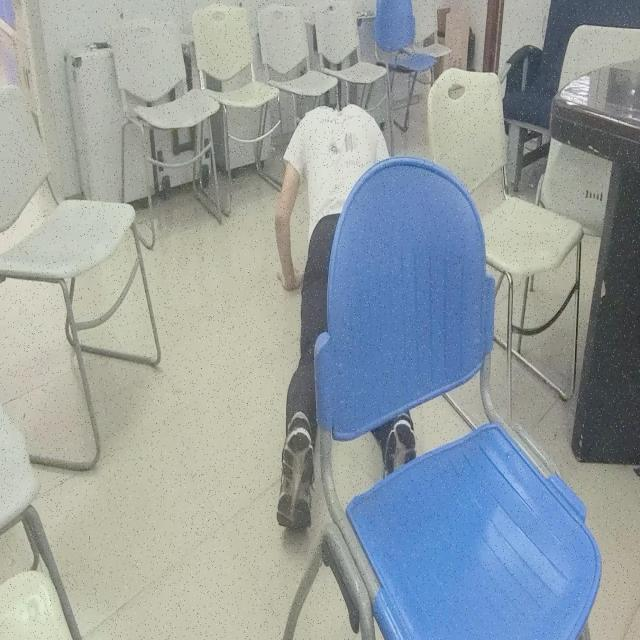fall: (274, 102, 419, 543)
